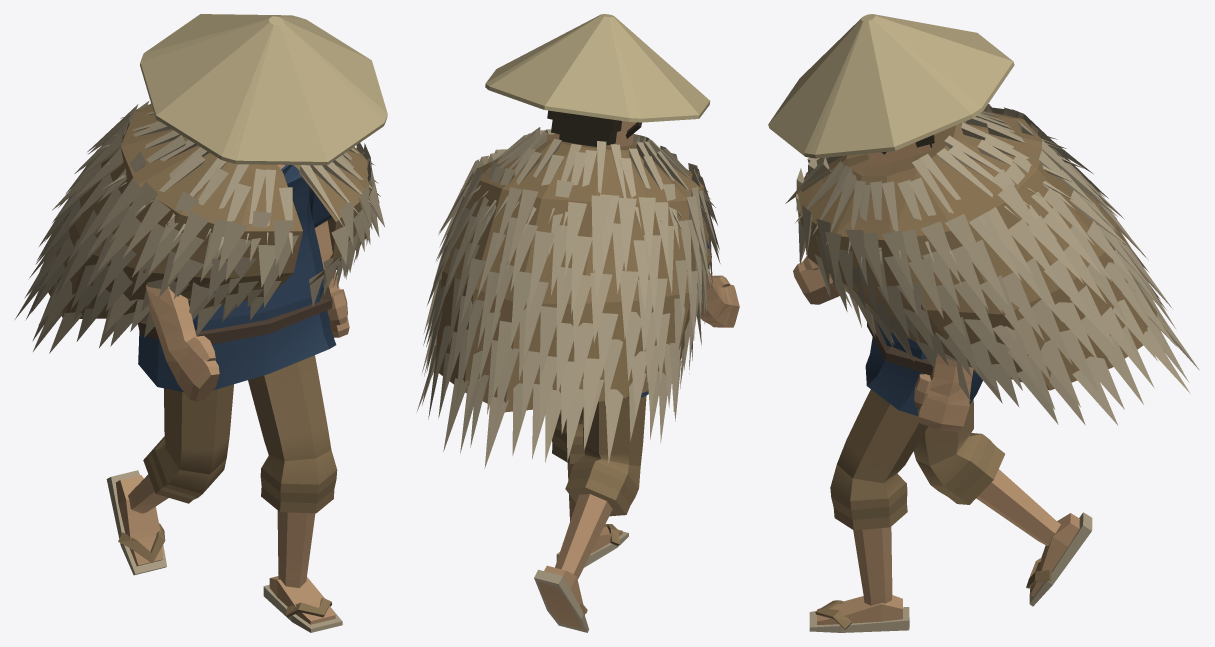
File: farmer-363820__walk1.glb
3 renders of one model, left to right at view 1: azimuth 30°, elevation 25°; view 2: azimuth 150°, elevation 25°; view 3: azimuth 270°, elevation 25°, orthographic. The views are drawn at different scales.
Visible parts, largest first — view 1: farmer-363820__walk1; view 2: farmer-363820__walk1; view 3: farmer-363820__walk1.
Boxes of the visible parts, x1=… form: farmer-363820__walk1: x1=15, y1=14, x2=387, y2=632; farmer-363820__walk1: x1=416, y1=14, x2=739, y2=632; farmer-363820__walk1: x1=768, y1=14, x2=1199, y2=632.
Bounding box in the file's own units: 0.8852 × 1.82 × 1.18.
